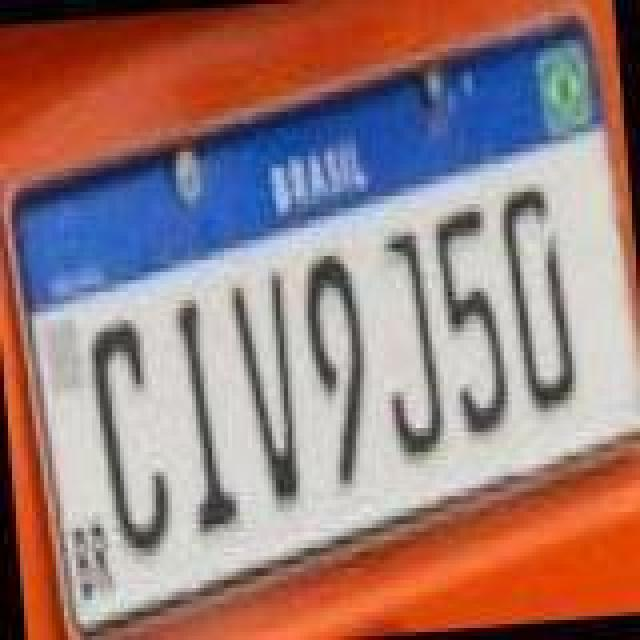5: (430, 204, 514, 436)
9: (298, 250, 374, 486)
C: (84, 320, 172, 560)
D: (500, 186, 580, 414)
I: (174, 296, 242, 536)
J: (372, 228, 444, 460)
V: (228, 268, 300, 500)
